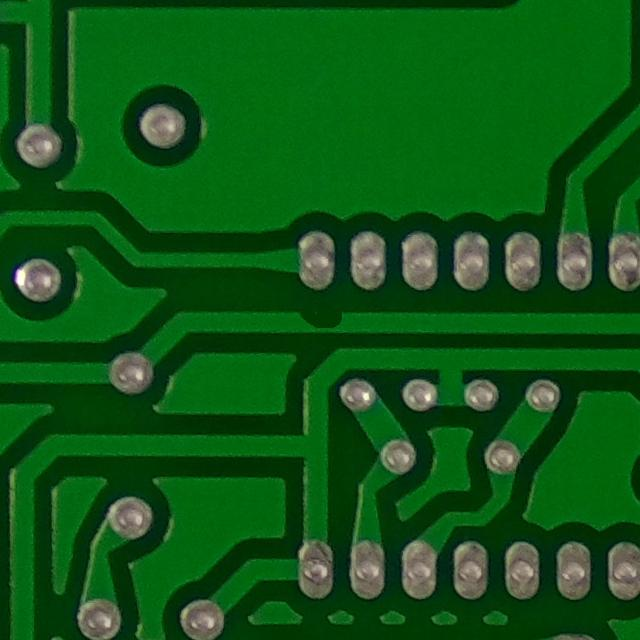mouse_bite: (286, 294, 354, 347)
